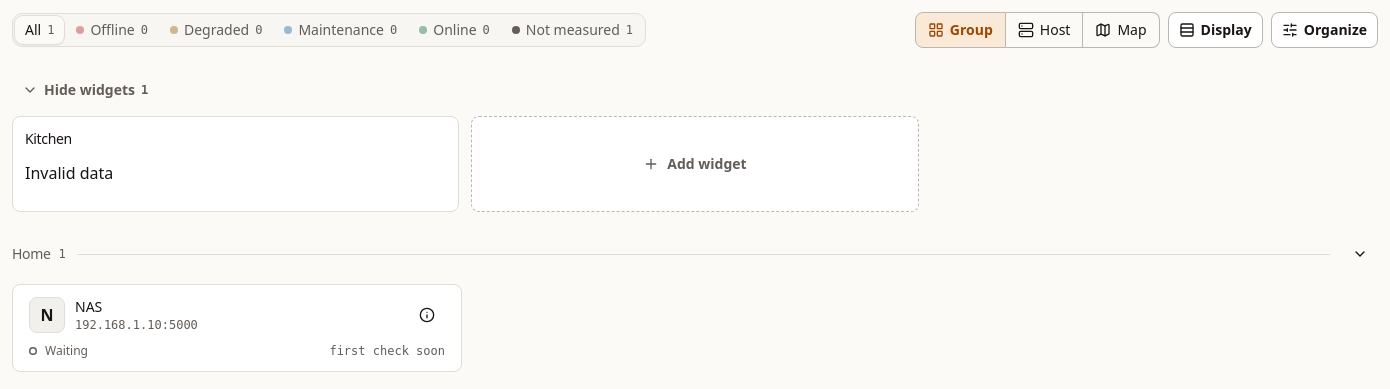
folds the widgets away above the groups where there is no column, and remembers it
Expected: the heading "Kitchen" is shown, [25,129,72,148]
Step 1. Click the button "Hide widgets 1" → (85,90), box [12,72,158,108]
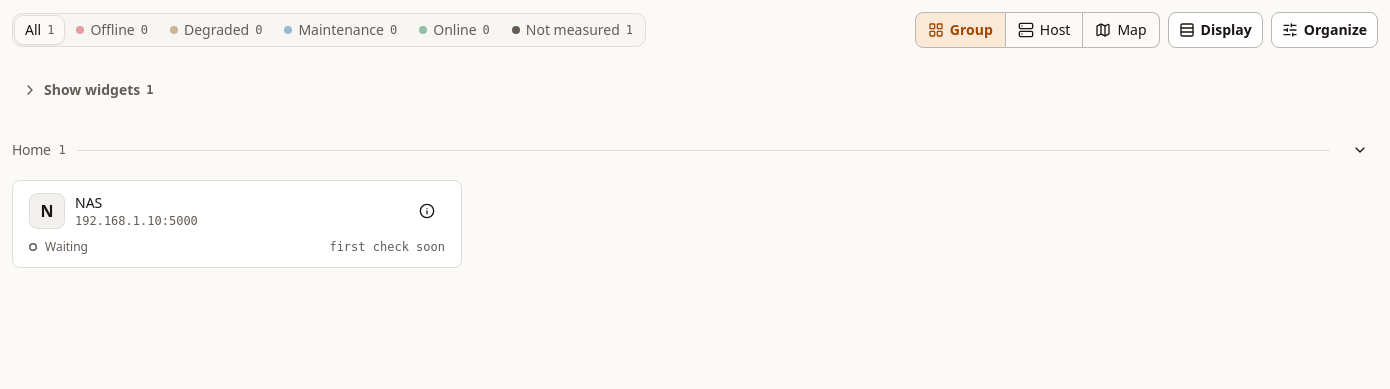
Result: the heading "Kitchen" is gone
Result: the button "Show widgets 1" is shown at [12,72,164,108]
